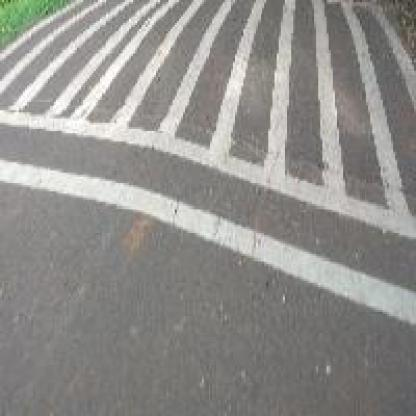Speed Bump: (4, 4, 404, 318)
